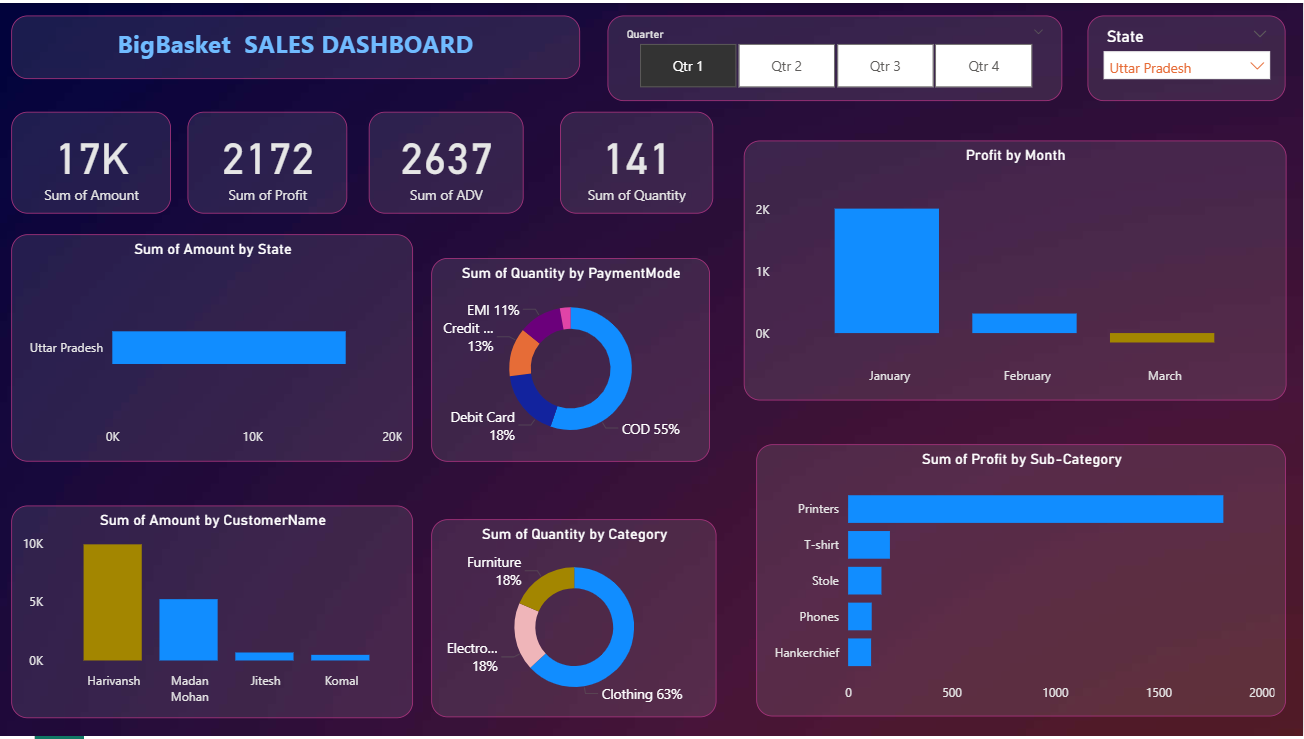

The page's visual inventory and layout, read from the dashboard file:
{"tool":"powerbi","page":{"name":"Page 1","canvas":[1280,720],"ordinal":0},"visuals":[{"type":"textbox","box":[11,12.3,558.3,62.6],"z":0},{"type":"columnChart","title":" Profit by Month","fields":{"Category":["Orders.Order Date.Variation.Date Hierarchy.Month"],"Y":["Sum(Details.Profit)"]},"box":[730,134.5,532.4,255.2],"z":1000},{"type":"barChart","fields":{"Category":["Details.Sub-Category"],"Y":["Sum(Details.Profit)"]},"box":[742.4,433.6,520.1,267.6],"z":2000},{"type":"donutChart","fields":{"Category":["Details.Category"],"Y":["Sum(Details.Quantity)"]},"box":[423.2,507.1,280.4,194.6],"z":3000},{"type":"donutChart","fields":{"Y":["Sum(Details.Quantity)"],"Category":["Details.PaymentMode"]},"box":[423.2,250,273.2,200],"z":4000},{"type":"card","fields":{"Values":["Sum(Details.Amount)"]},"box":[10.7,107.1,157.1,100],"z":5000},{"type":"card","fields":{"Values":["Sum(Details.Quantity)"]},"box":[550,107.1,150,100],"z":6000},{"type":"card","fields":{"Values":["Sum(Details.Profit)"]},"box":[183.9,107.1,157.1,100],"z":7000},{"type":"card","fields":{"Values":["Sum(Details.ADV)"]},"box":[362.5,107.1,151.8,100],"z":8000},{"type":"barChart","fields":{"Category":["Orders.State","Details.Sub-Category"],"Y":["Sum(Details.Amount)"]},"box":[10.7,226.8,394.6,223.2],"z":9000},{"type":"columnChart","fields":{"Category":["Orders.CustomerName"],"Y":["Sum(Details.Amount)"]},"box":[10.7,492.9,394.6,208.9],"z":10000},{"type":"slicer","fields":{"Values":["Orders.Order Date.Variation.Date Hierarchy.Quarter"]},"box":[596.4,12.5,446.4,83.9],"z":11000},{"type":"slicer","fields":{"Values":["Orders.State"]},"box":[1067.9,12.5,194.6,83.9],"z":12000}]}

Visuals, with their boxes in screenshot pixels (x1, y1, x2, y2), scaled from the page's 1280x720 canvas onto the 1304x739 screenshot:
textbox: (11,13,580,77)
" Profit by Month" columnChart: (744,138,1286,400)
barChart - Details.Sub-Category x Sum(Details.Profit): (756,445,1286,720)
donutChart - Details.Category x Sum(Details.Quantity): (431,520,717,720)
donutChart - Sum(Details.Quantity) x Details.PaymentMode: (431,257,709,462)
card - Sum(Details.Amount): (11,110,171,213)
card - Sum(Details.Quantity): (560,110,713,213)
card - Sum(Details.Profit): (187,110,347,213)
card - Sum(Details.ADV): (369,110,524,213)
barChart - Orders.State x Details.Sub-Category: (11,233,413,462)
columnChart - Orders.CustomerName x Sum(Details.Amount): (11,506,413,720)
slicer - Orders.Order Date.Variation.Date Hierarchy.Quarter: (608,13,1062,99)
slicer - Orders.State: (1088,13,1286,99)
